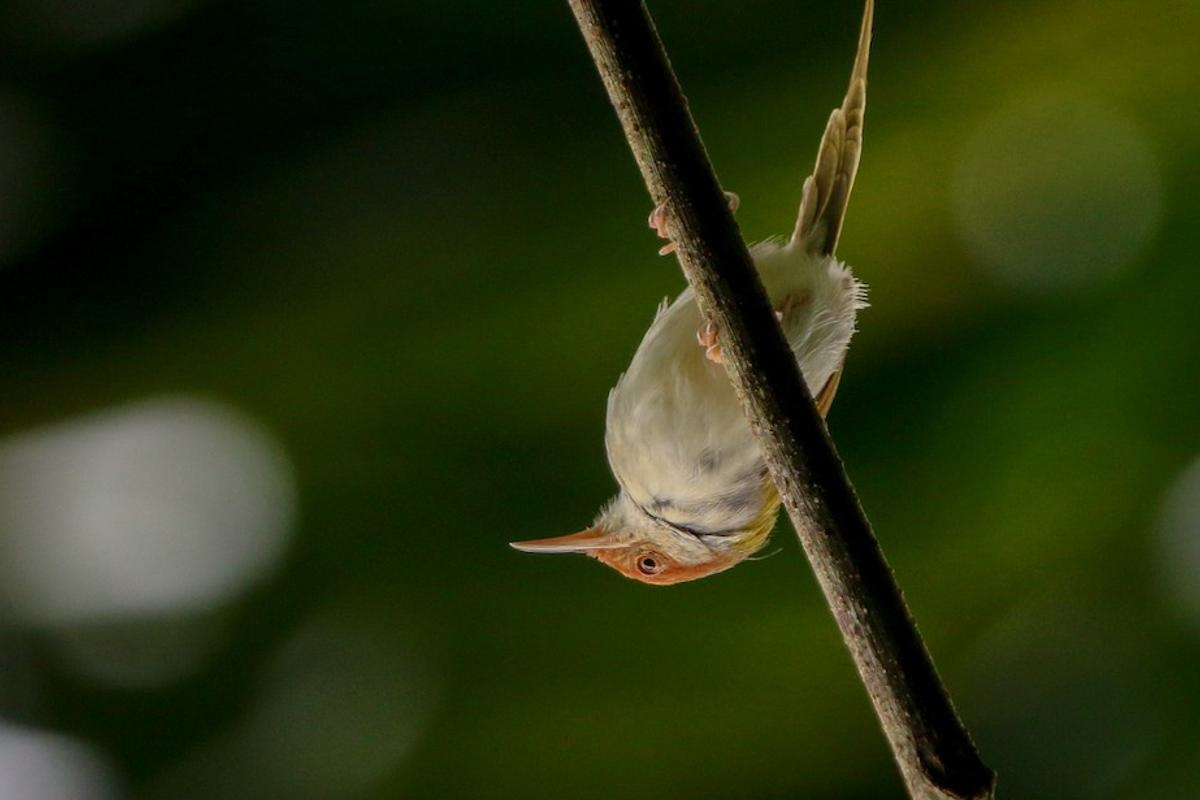tailorbird: (479, 115, 928, 613)
